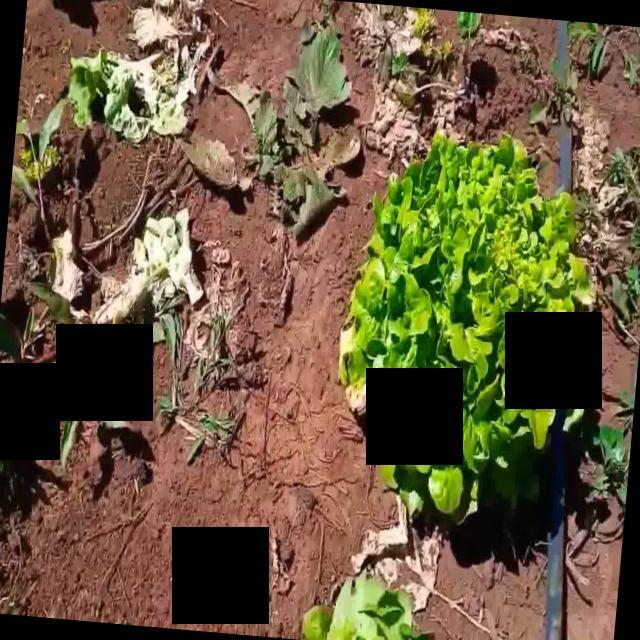Lettuce: (336, 140, 597, 530)
